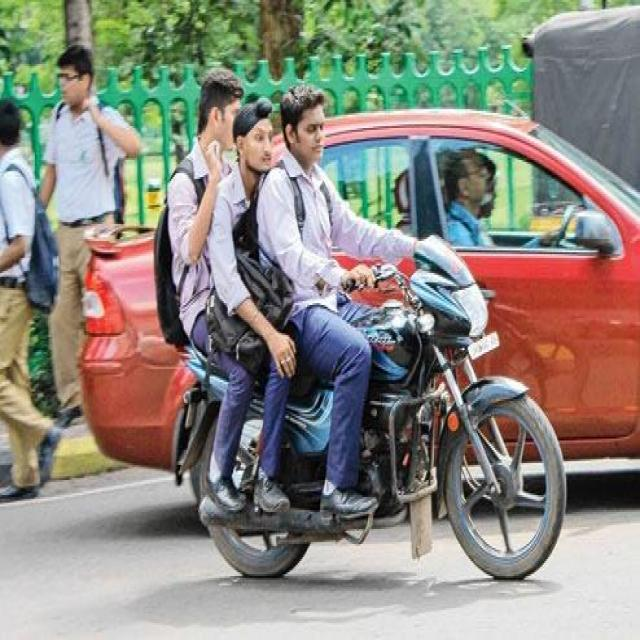Not Wearing Helmet: (276, 84, 325, 197)
Triple Riding: (193, 101, 476, 518)
